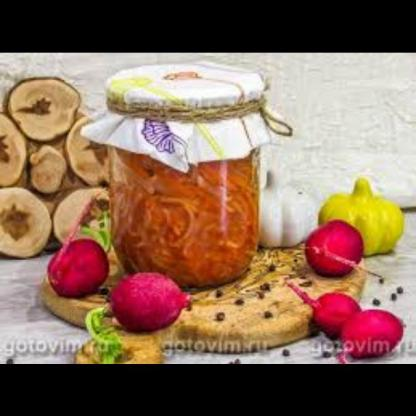rediska: (106, 268, 192, 330), (38, 231, 113, 297), (302, 218, 367, 281), (338, 308, 408, 358), (304, 287, 367, 337)
squash-patisson: (311, 164, 414, 252), (255, 165, 324, 252)
